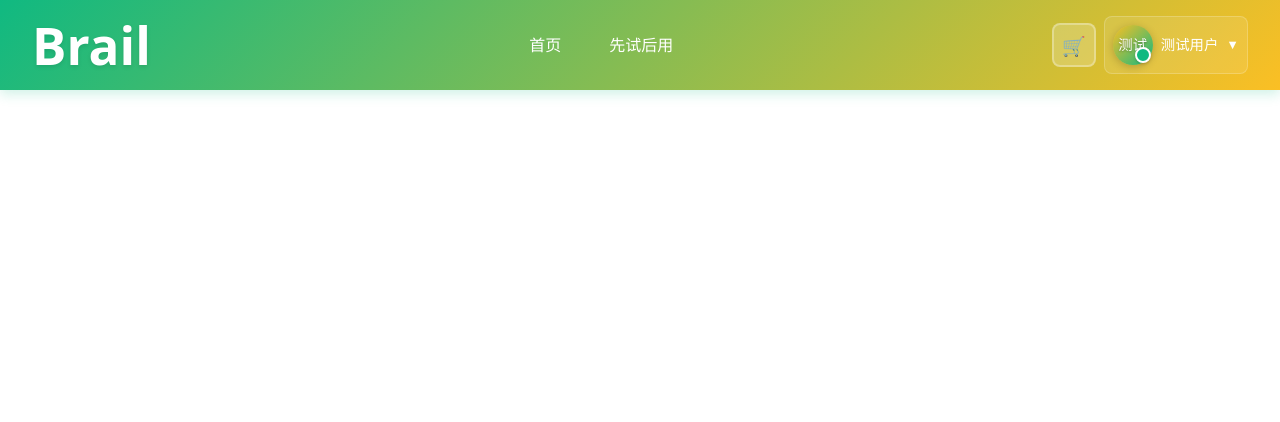
Test: Header.vue 注册功能单元测试 › 用户下拉菜单测试 › 点击用户下拉菜单应该打开下拉菜单
Click the element with class "user-dropdown" at coordinates (1176, 45), box [1104, 16, 1248, 74]
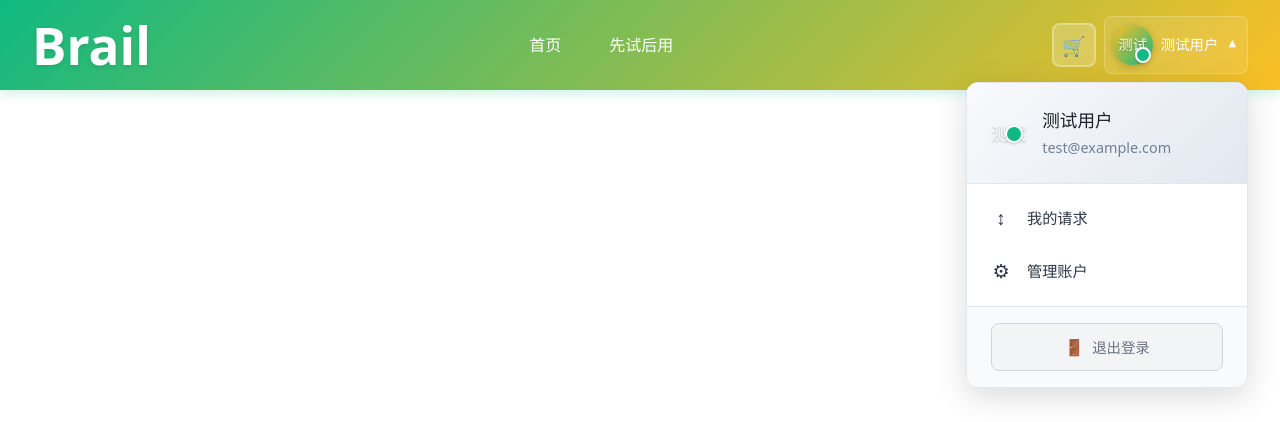
Check: the element with class "dropdown-menu" is shown, box [966, 82, 1248, 388]
